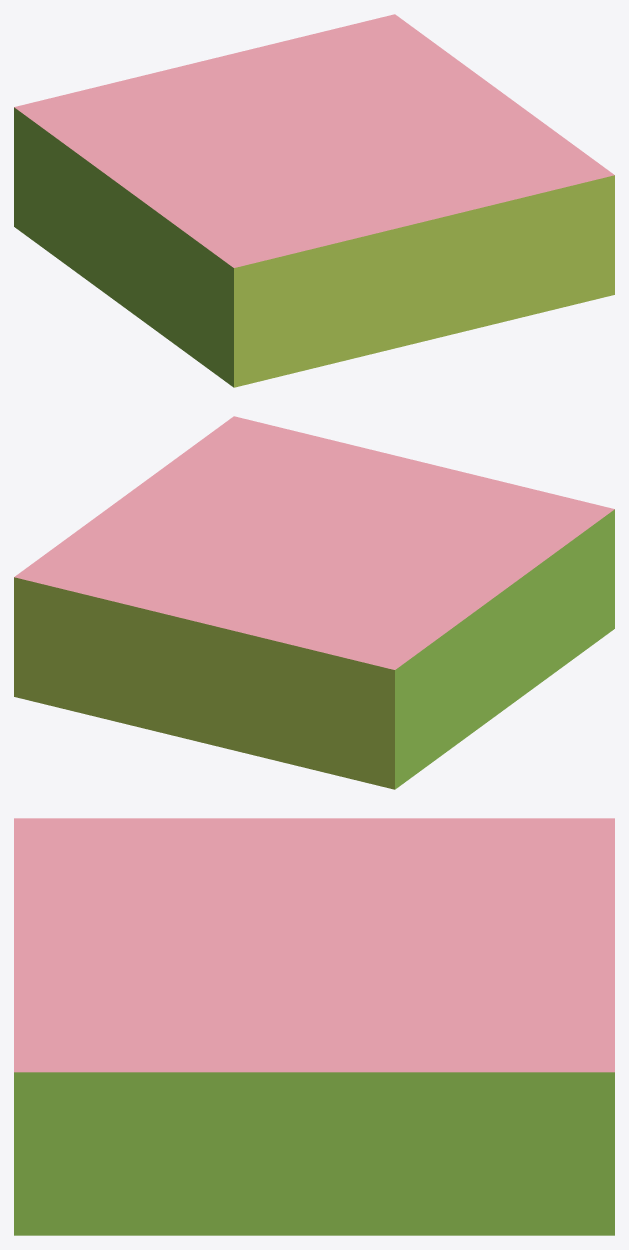
Rendered from floor_basic9.fbx.
The picture shows the model from 3 angles, top to bottom: view 1: azimuth 30°, elevation 25°; view 2: azimuth 150°, elevation 25°; view 3: azimuth 270°, elevation 25°; orthographic projection. The views are drawn at different scales.
Visible parts, largest first — view 1: floor_basic1; view 2: floor_basic1; view 3: floor_basic1.
Boxes of the visible parts, x1,y1,x2,y2 form: floor_basic1: [14, 14, 614, 387]; floor_basic1: [14, 416, 614, 789]; floor_basic1: [14, 818, 614, 1235].
Bounding box in the file's own units: 100 × 30 × 100.
